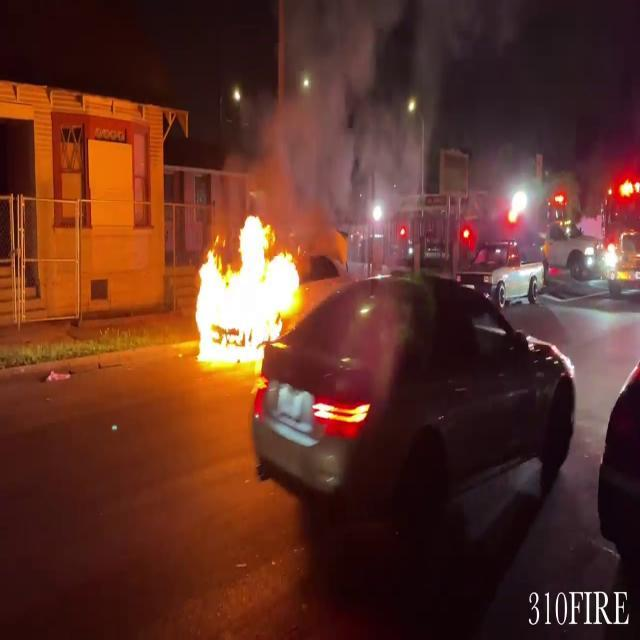Fire: (188, 209, 312, 377)
Smoke: (229, 0, 436, 231)
